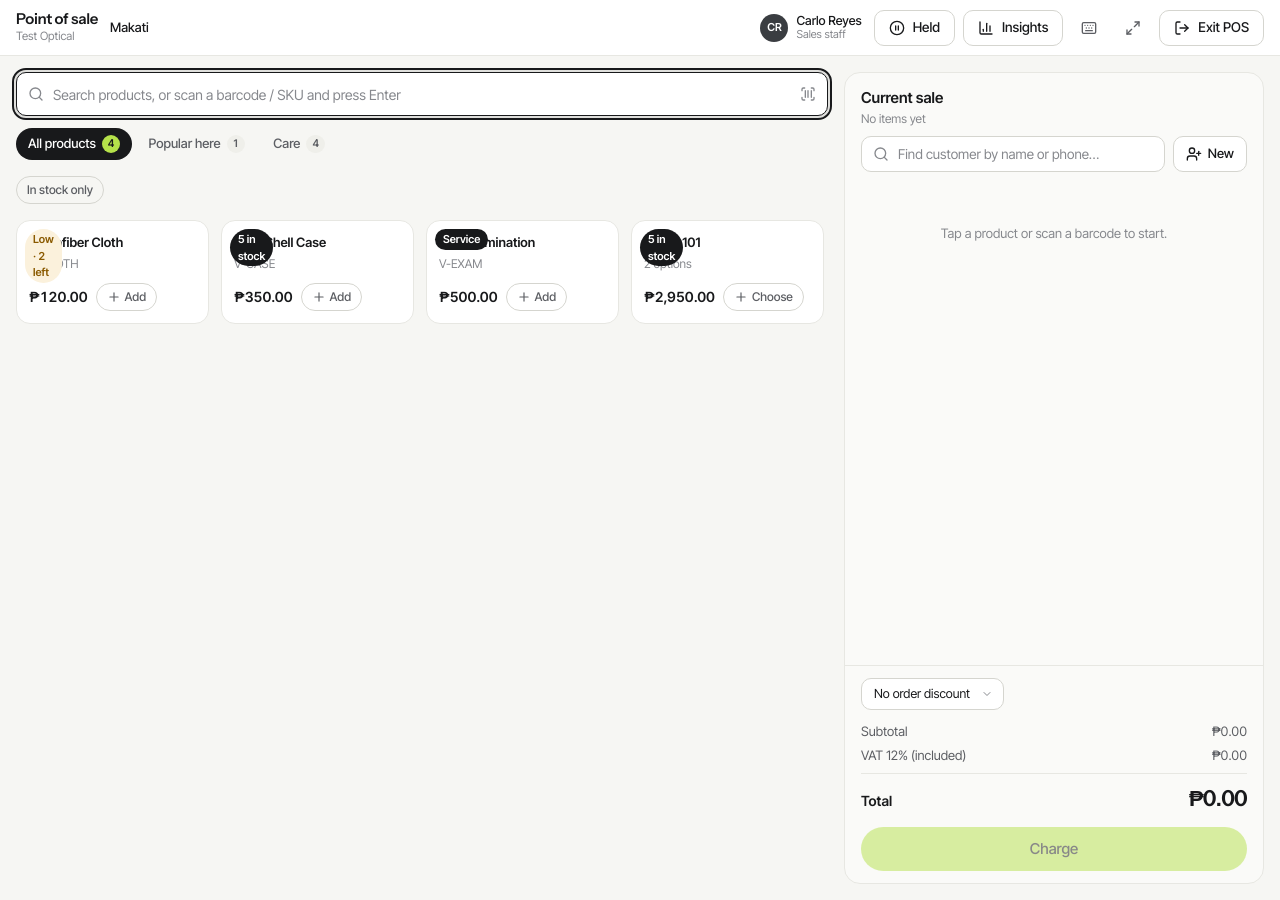
Test: POS terminal › blocks order discounts above the staff limit
Click the button "Hard Shell Case V-CASE ₱350.00 Add": (318, 272) top-left (221, 220), bottom-right (414, 324)
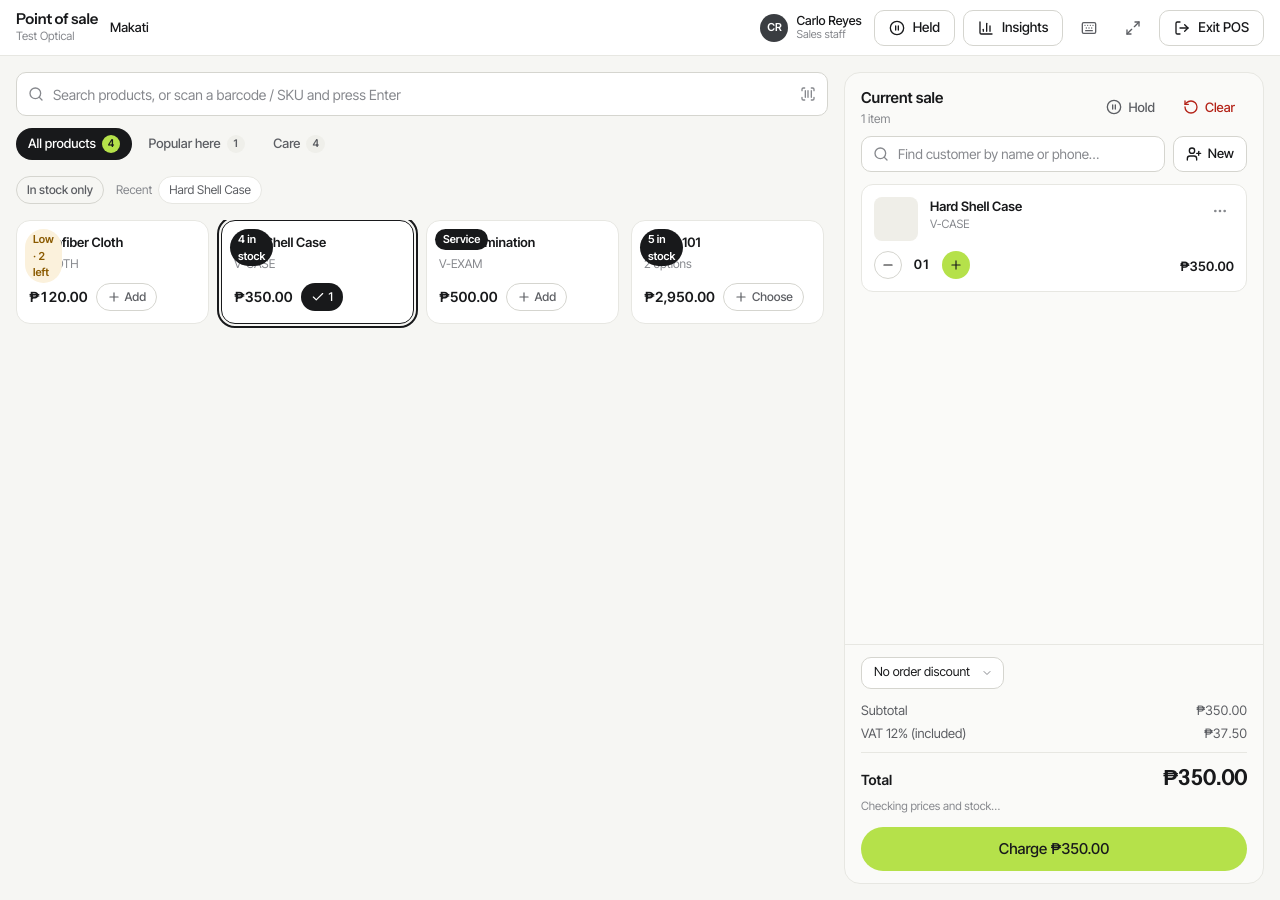
Select "% off order" in the dropdown named "Order discount": (932, 673) top-left (861, 657), bottom-right (1004, 689)
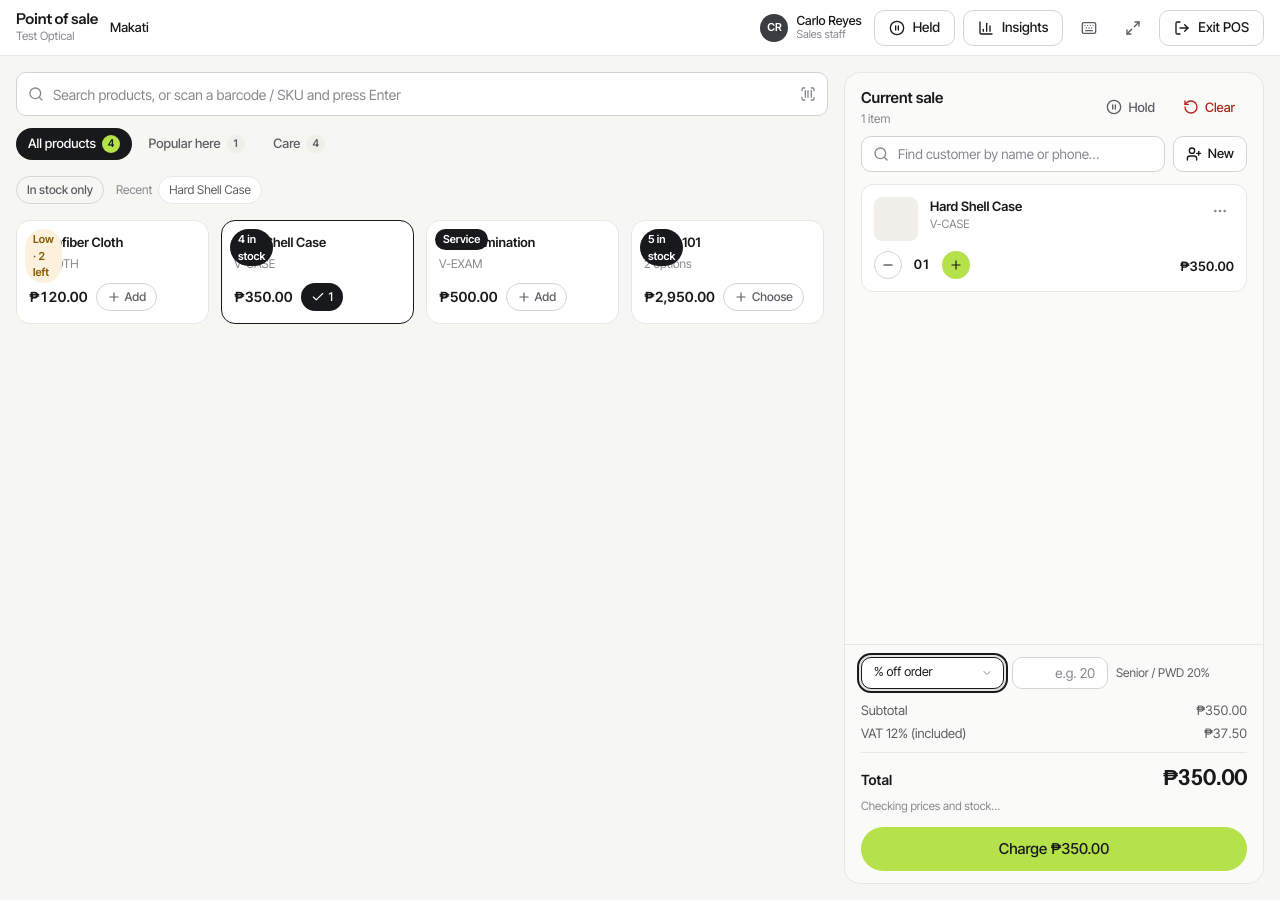
In the field named "Order discount value": (1060, 673) top-left (1012, 657), bottom-right (1108, 689), type "25"
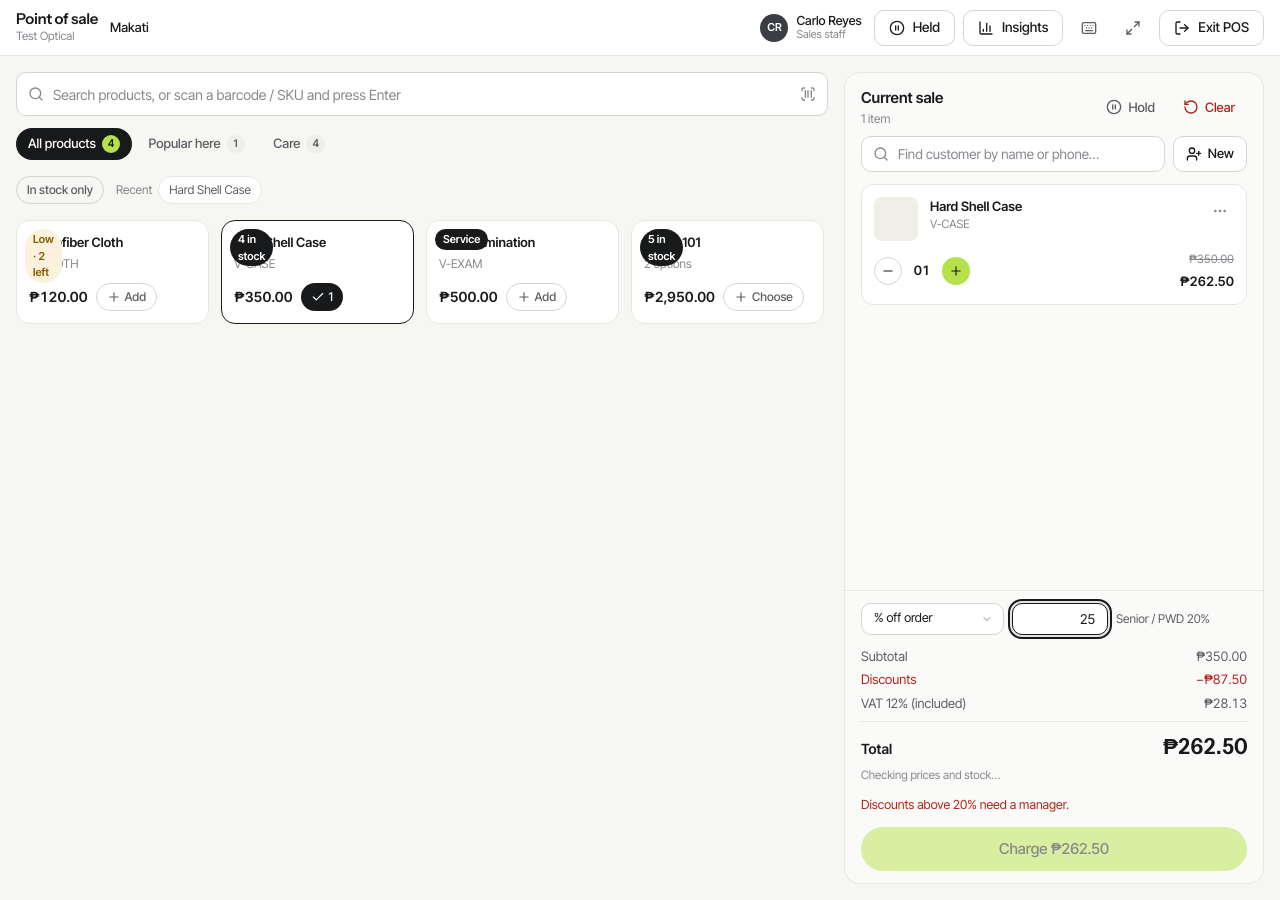
Now the text "Discounts above 20% need a manager." is shown, box top-left (861, 797), bottom-right (1069, 812)
Now the button "Charge ₱262.50" is disabled, box top-left (861, 827), bottom-right (1247, 871)
Clear the field named "Order discount value": (1060, 618) top-left (1012, 602), bottom-right (1108, 634)
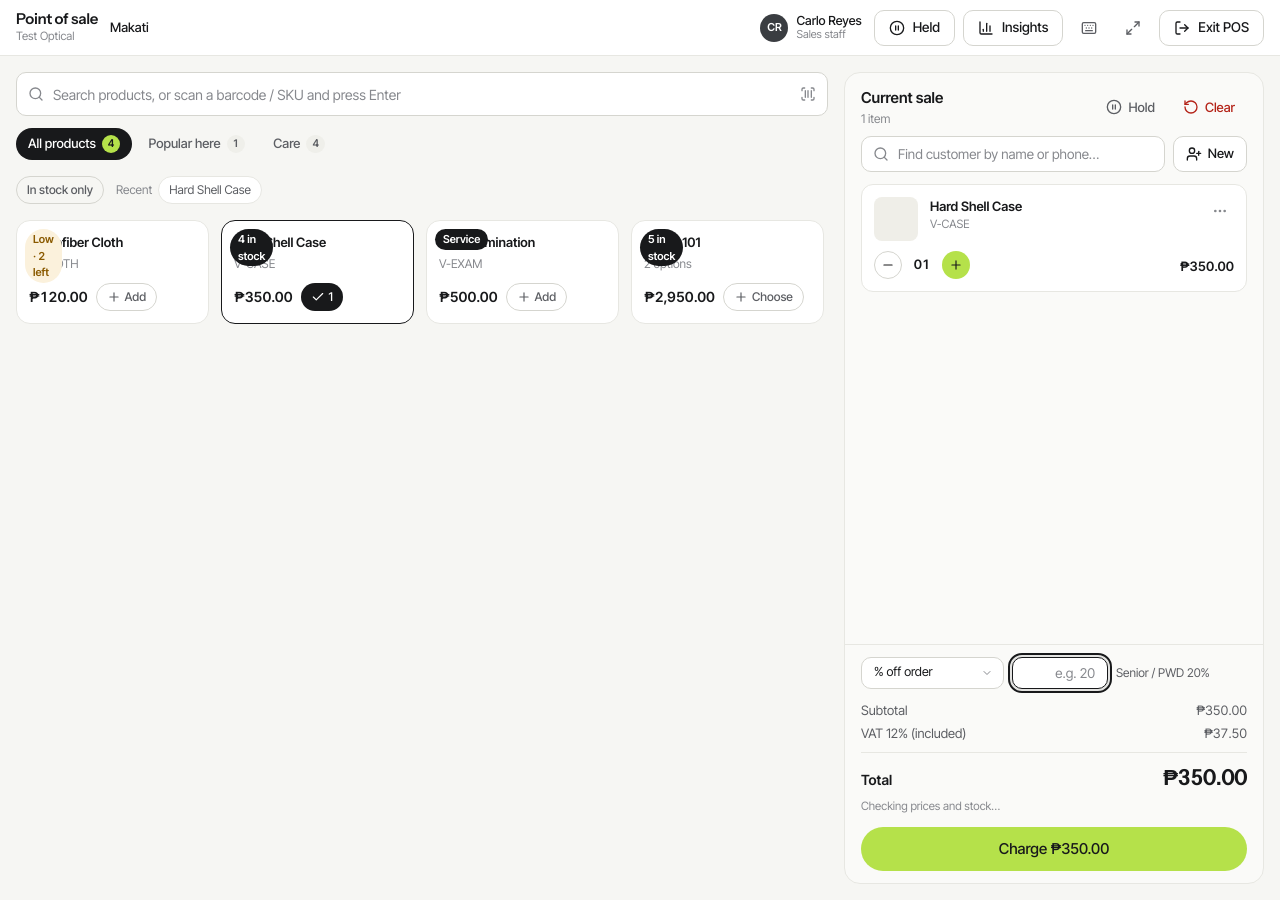
In the field named "Order discount value": (1060, 673) top-left (1012, 657), bottom-right (1108, 689), type "10"
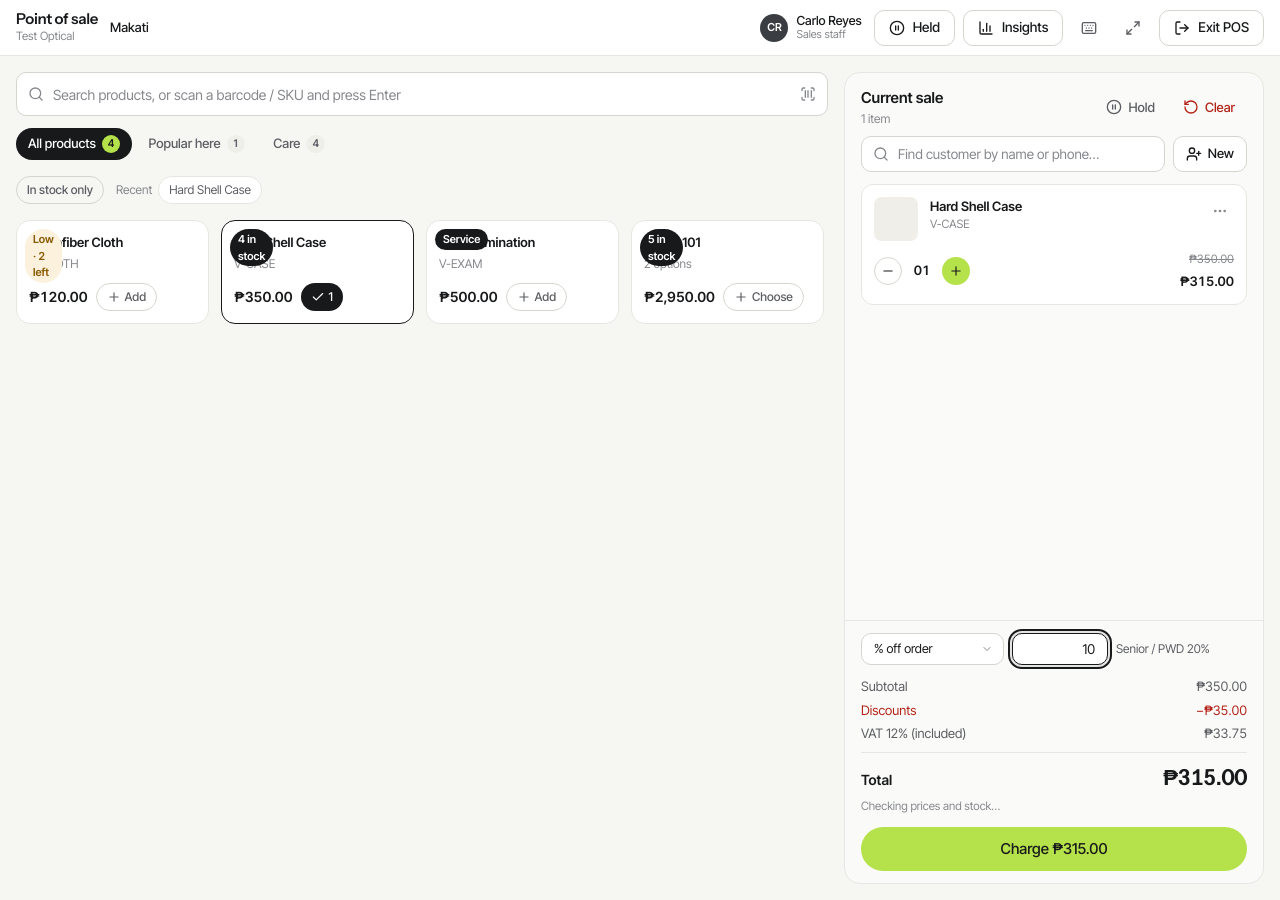
Now the button "Charge ₱315.00" is enabled, box top-left (861, 827), bottom-right (1247, 871)
Now the button "Charge ₱315.00" is shown, box top-left (861, 827), bottom-right (1247, 871)
